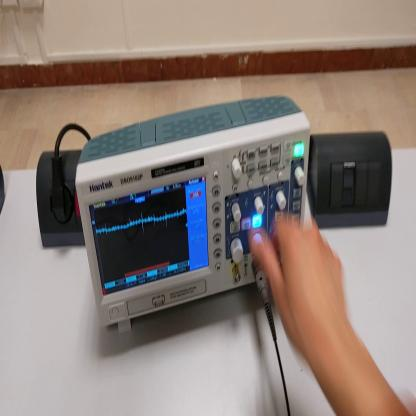hand: (252, 215, 350, 358)
oscilloscope: (76, 92, 313, 332)
socket: (35, 151, 86, 249), (2, 166, 8, 216)
